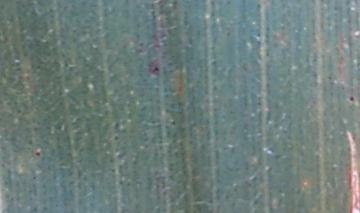tarspot: (152, 65, 159, 75), (169, 119, 177, 127), (348, 94, 355, 103), (113, 133, 120, 141), (33, 151, 42, 157), (255, 3, 261, 9)
